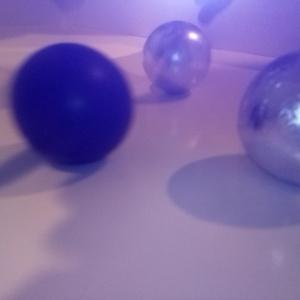alive_ball: (237, 50, 300, 186), (143, 21, 212, 94)
dead_ball: (10, 41, 132, 163)
